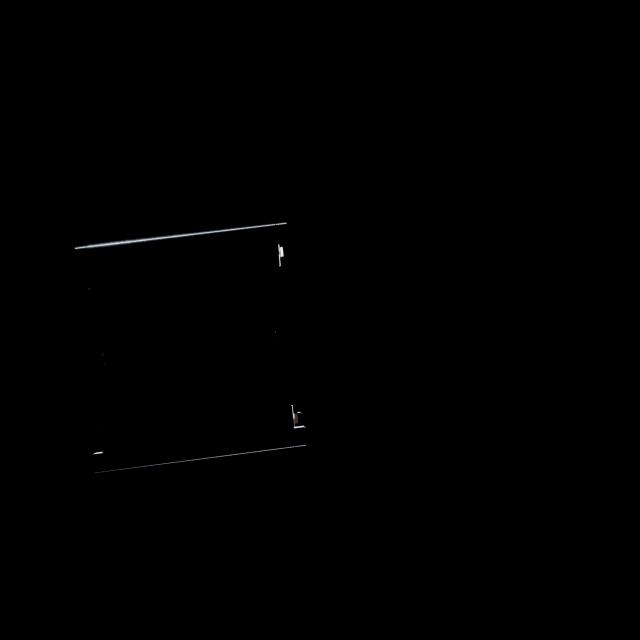satellite: (67, 209, 326, 480)
